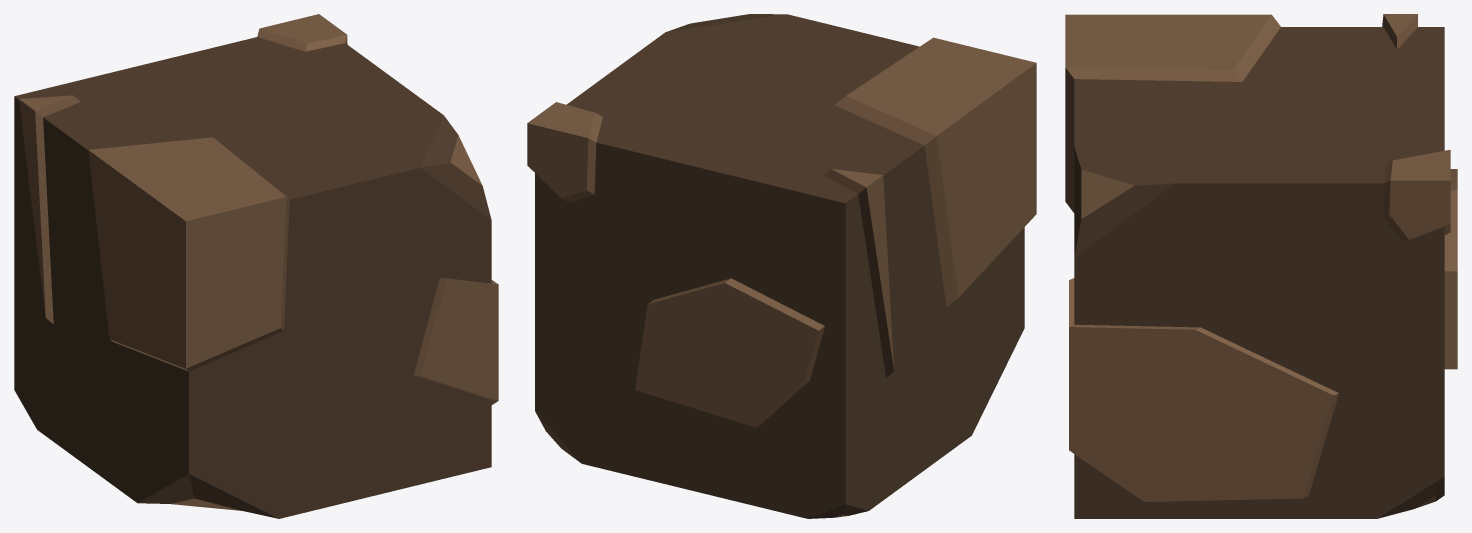
Rendered from Ruin_5_Dark_Brown.fbx.
3 views of the same model, side by side, from view 1: azimuth 30°, elevation 25°; view 2: azimuth 150°, elevation 25°; view 3: azimuth 270°, elevation 25° (orthographic). The views are drawn at different scales.
Visible parts, largest first — view 1: Ruin_5_Dark_Brown; view 2: Ruin_5_Dark_Brown; view 3: Ruin_5_Dark_Brown.
Part boxes in pixels (box(x1,y1,x2,y2)): Ruin_5_Dark_Brown: box(14, 14, 498, 518); Ruin_5_Dark_Brown: box(527, 14, 1036, 518); Ruin_5_Dark_Brown: box(1065, 14, 1457, 518).
Bounding box in the file's own units: 52.13 × 51.32 × 53.02.
